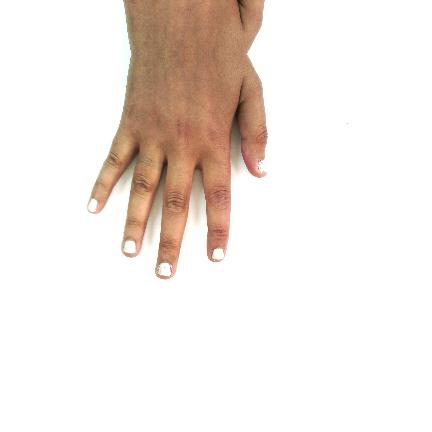Nail: (123, 240, 136, 254), (158, 262, 171, 276), (87, 198, 98, 213), (212, 248, 224, 260), (258, 160, 267, 173)
